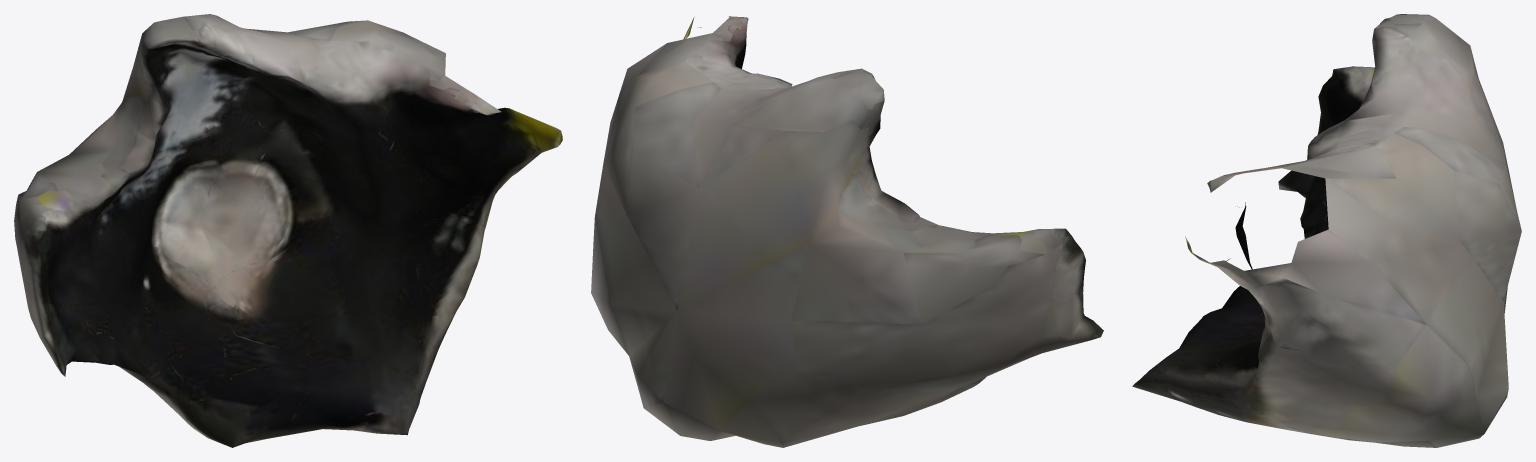
Rendered from hall.glb.
3 views of the same model, side by side, from view 1: azimuth 30°, elevation 25°; view 2: azimuth 150°, elevation 25°; view 3: azimuth 270°, elevation 25° (orthographic). The views are drawn at different scales.
Bounding box in the file's own units: 0.2553 × 0.1943 × 0.1868.
1 material, 1 textured.
